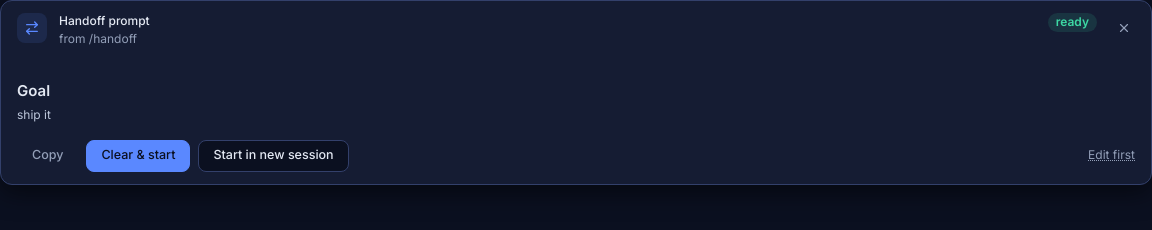
Test case: HandoffCardView › Copy that the clipboard refuses reports the failure
Click the button "Copy". click: (48, 156)
box: left=17, top=140, right=78, bottom=172
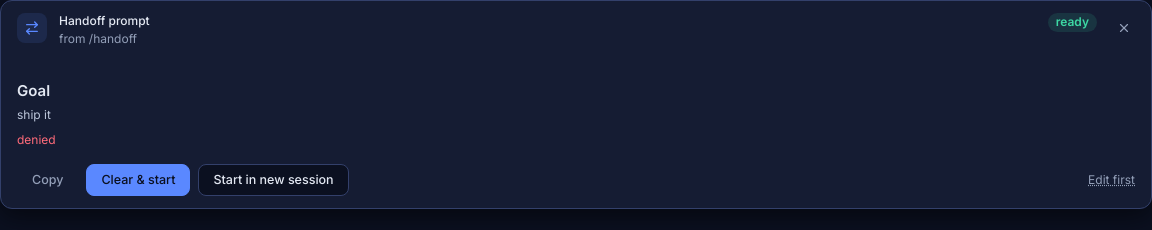
Result: the message with test id "handoff-notice" reads "denied" at left=17, top=132, right=56, bottom=147
